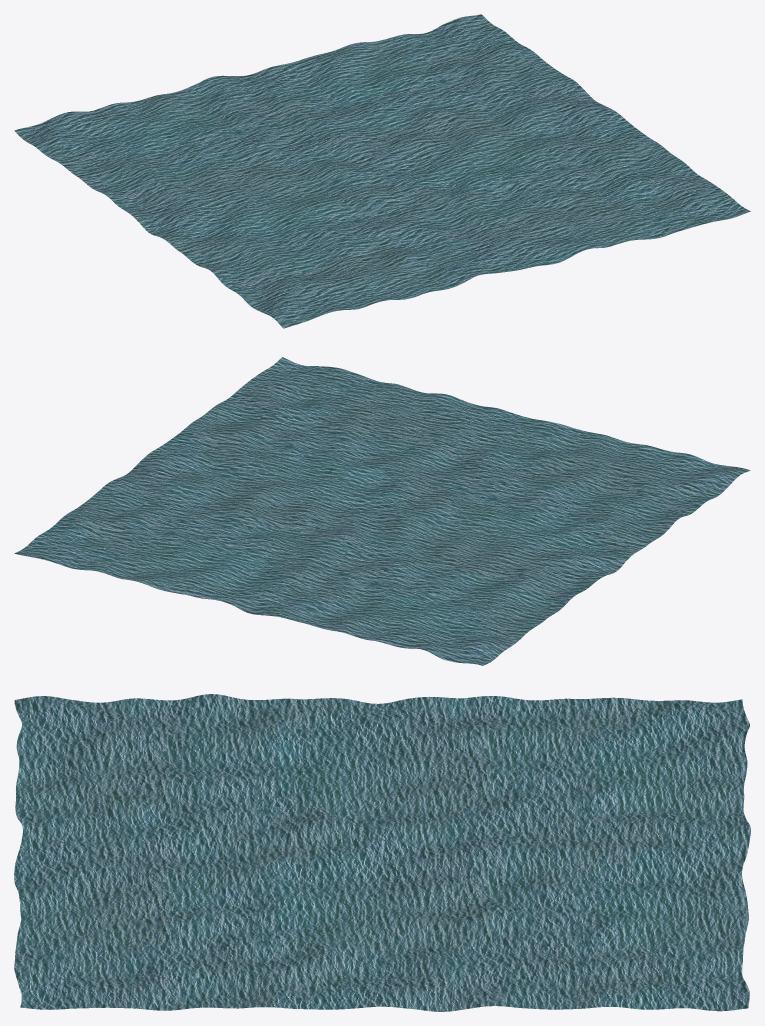
The model's file is water.FBX.
3 views of the same model, one above another, from view 1: azimuth 30°, elevation 25°; view 2: azimuth 150°, elevation 25°; view 3: azimuth 270°, elevation 25° (orthographic). The views are drawn at different scales.
Visible parts, largest first — view 1: water; view 2: water; view 3: water.
Boxes of the visible parts, box(x1,y1,x2,y2) form: water: box(14, 14, 750, 328); water: box(14, 357, 750, 665); water: box(14, 694, 750, 1011).
Bounding box in the file's own units: 64.45 × 1.12 × 64.86.
1 material, 1 textured.
